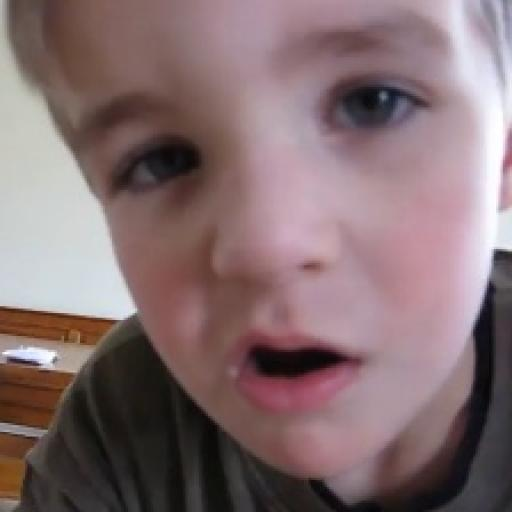Autism: (43, 4, 512, 478)
